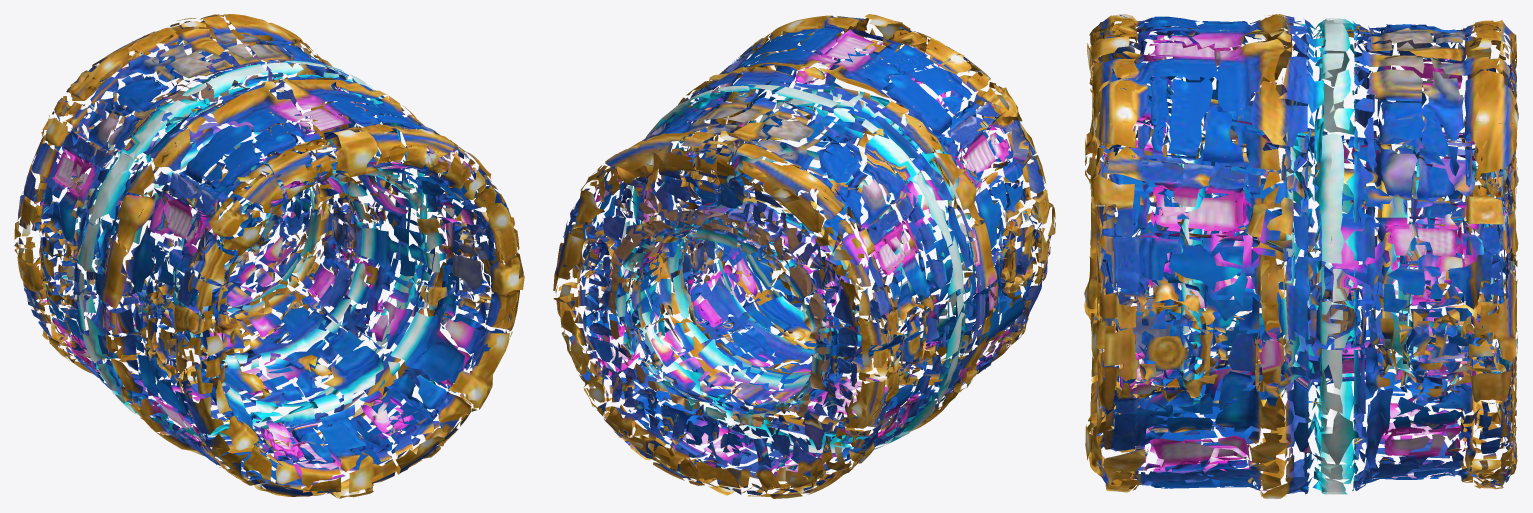
The model's file is BubbleWash_Washer_Tunnel_Interior_Claudia_Small.glb.
3 views of the same model, side by side, from view 1: azimuth 30°, elevation 25°; view 2: azimuth 150°, elevation 25°; view 3: azimuth 270°, elevation 25° (orthographic). The views are drawn at different scales.
Visible parts, largest first — view 1: WasherTunnelInteriorLiner; view 2: WasherTunnelInteriorLiner; view 3: WasherTunnelInteriorLiner.
Boxes of the visible parts, x1=… form: WasherTunnelInteriorLiner: x1=14, y1=14, x2=524, y2=498; WasherTunnelInteriorLiner: x1=553, y1=14, x2=1055, y2=498; WasherTunnelInteriorLiner: x1=1084, y1=14, x2=1518, y2=498.
Size of the model in its own units: 1.9 by 1.9 by 1.73.
1 material, 1 textured.
